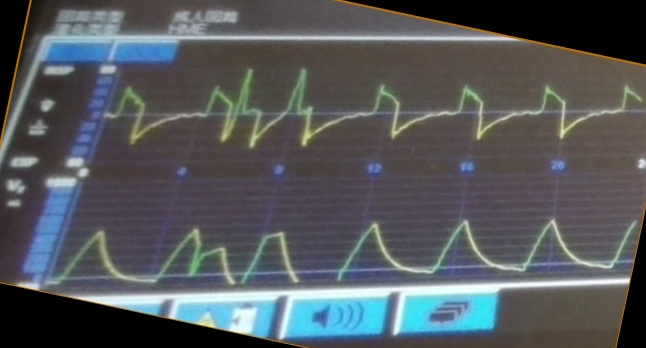Double_Triggering Flow: (107, 65, 634, 155)
Double_Triggering Volume: (53, 218, 630, 285)
